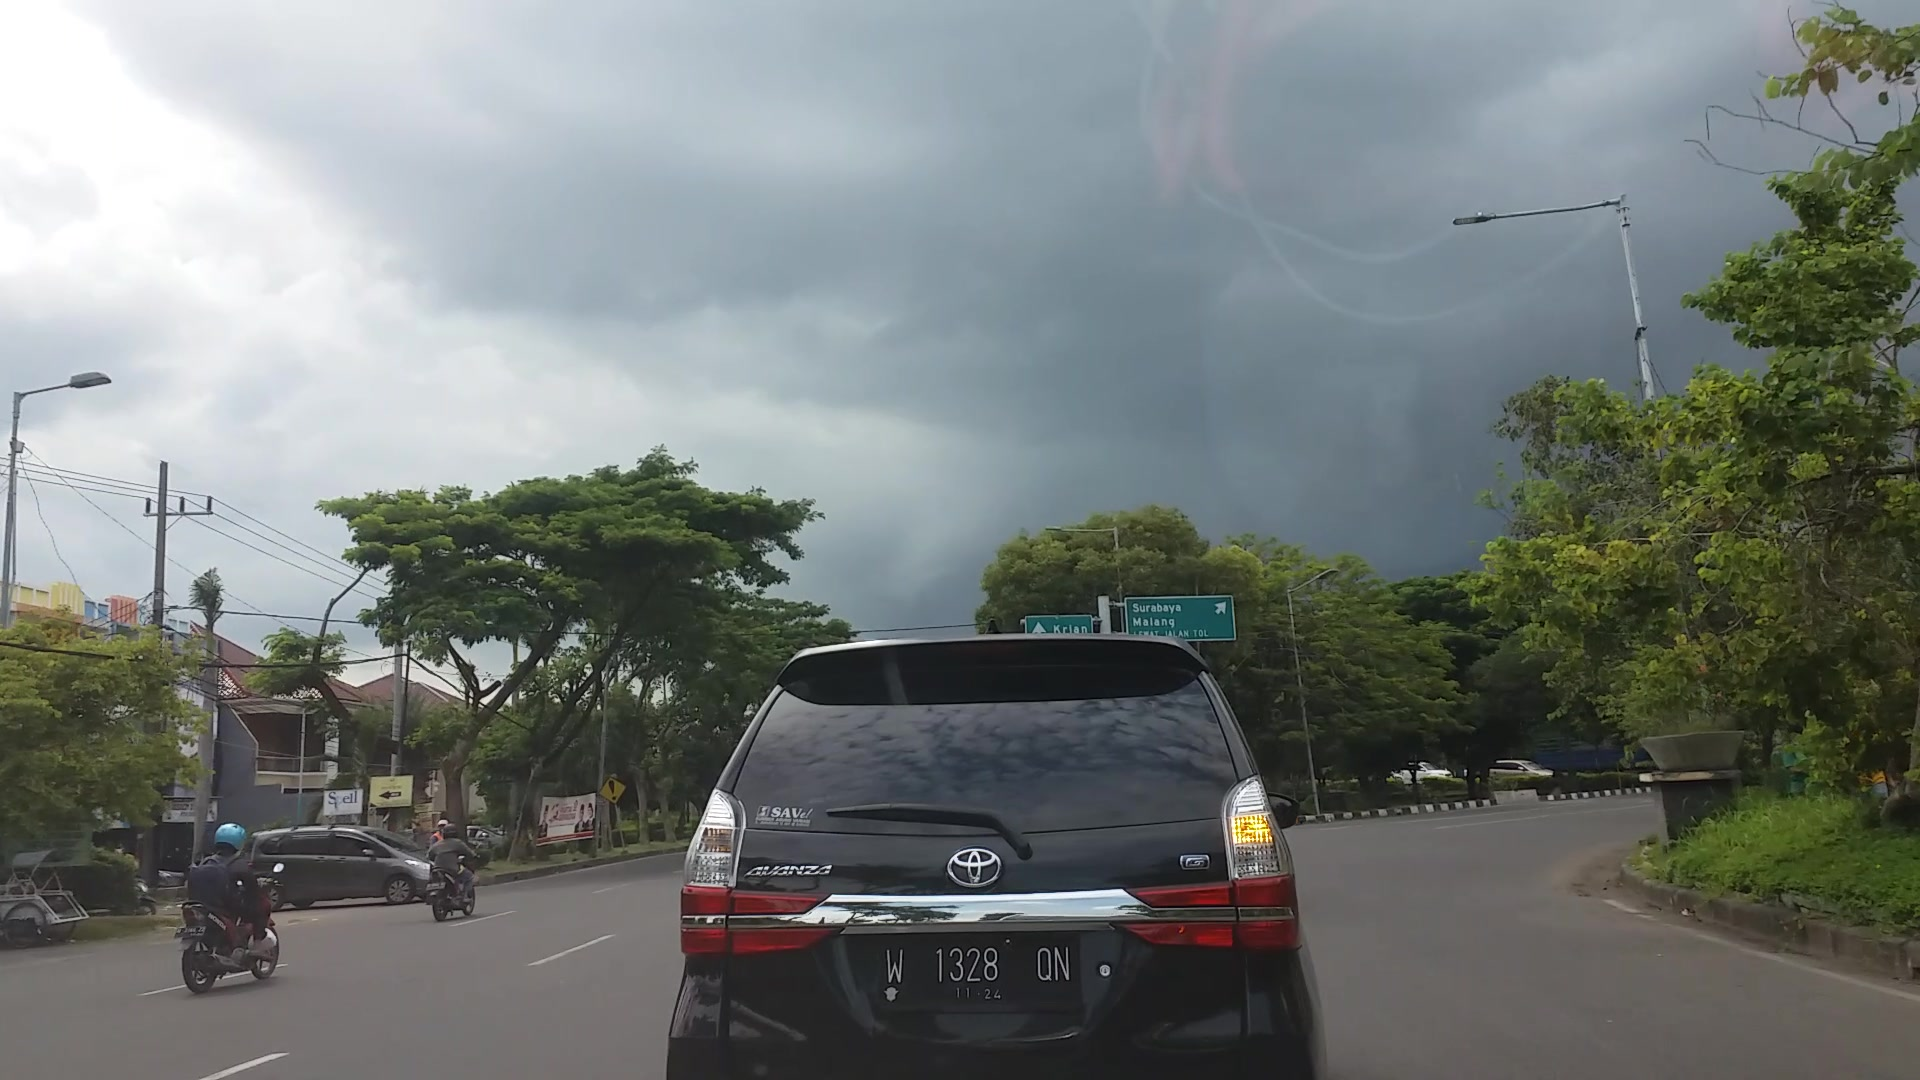plate_positive: (880, 931, 1079, 1011)
